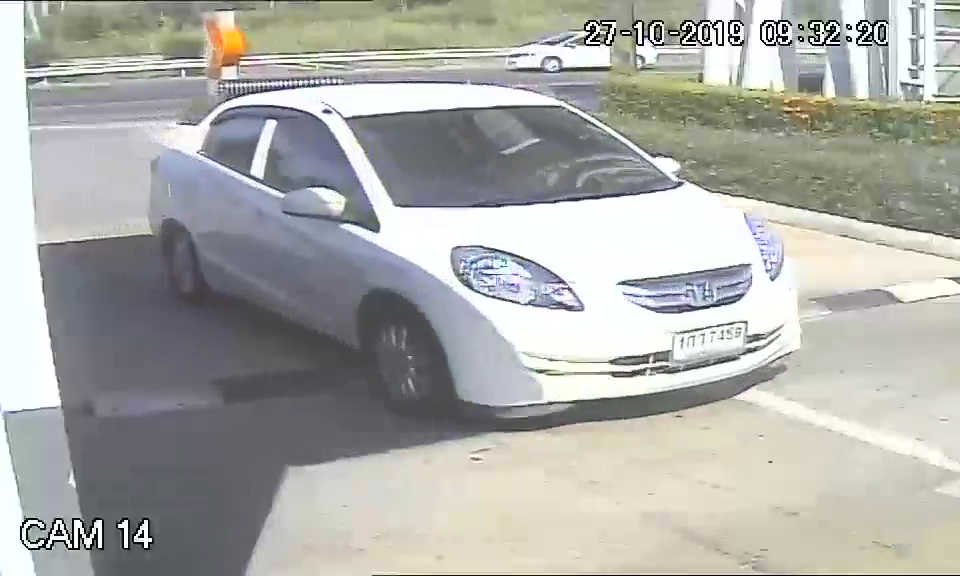sedan: (139, 77, 808, 420)
